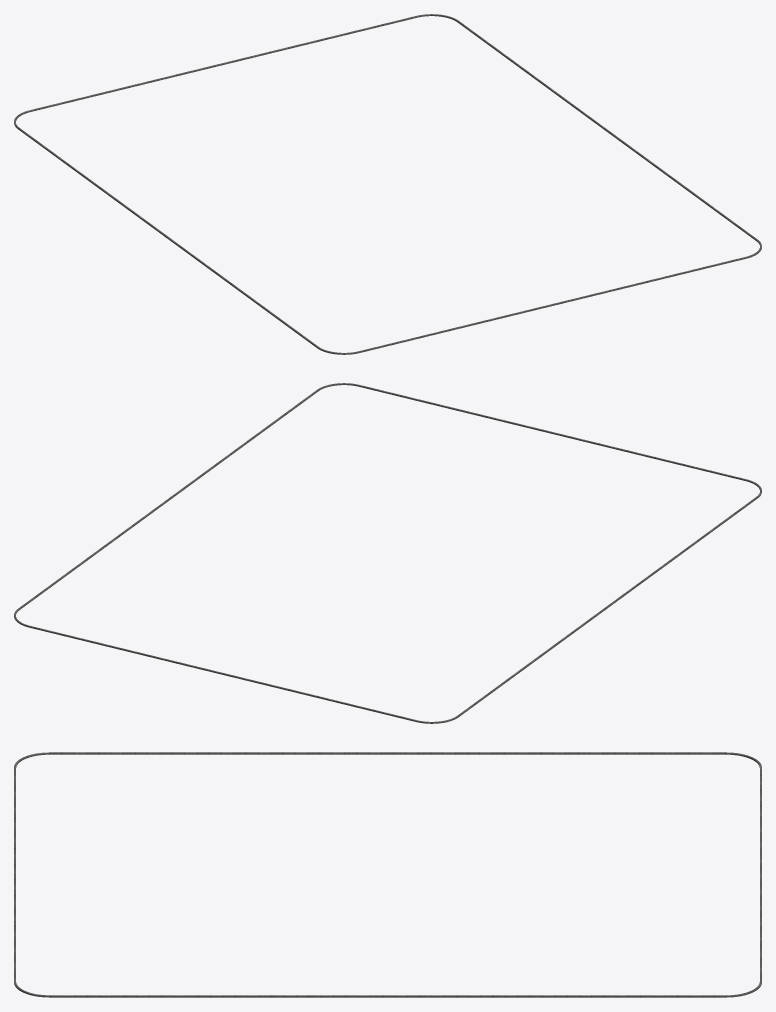
Rendered from Curb.fbx.
The picture shows the model from 3 angles, top to bottom: view 1: azimuth 30°, elevation 25°; view 2: azimuth 150°, elevation 25°; view 3: azimuth 270°, elevation 25°; orthographic projection. The views are drawn at different scales.
Visible parts, largest first — view 1: O_border; view 2: O_border; view 3: O_border.
Boxes of the visible parts, x1,y1,x2,y2 form: O_border: [14, 14, 761, 354]; O_border: [14, 383, 761, 723]; O_border: [14, 752, 761, 997].
Bounding box in the file's own units: 67.24 × 0.19 × 87.24.
